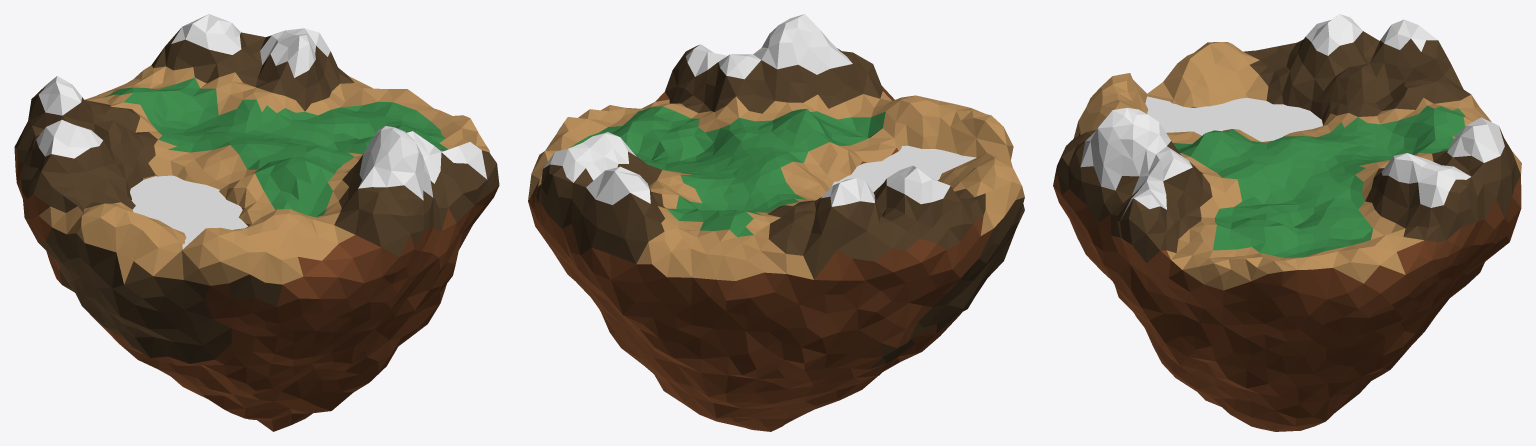
File: island5.fbx
3 views of the same model, side by side, from view 1: azimuth 30°, elevation 25°; view 2: azimuth 150°, elevation 25°; view 3: azimuth 270°, elevation 25° (orthographic). The views are drawn at different scales.
Parts seen in each view (by area): view 1: Icosphere; view 2: Icosphere; view 3: Icosphere.
Boxes of the visible parts, bbox=[...] form: Icosphere: bbox=[14, 14, 499, 431]; Icosphere: bbox=[528, 14, 1024, 431]; Icosphere: bbox=[1053, 14, 1521, 431].
Bounding box in the file's own units: 5938 × 4578 × 5763.
